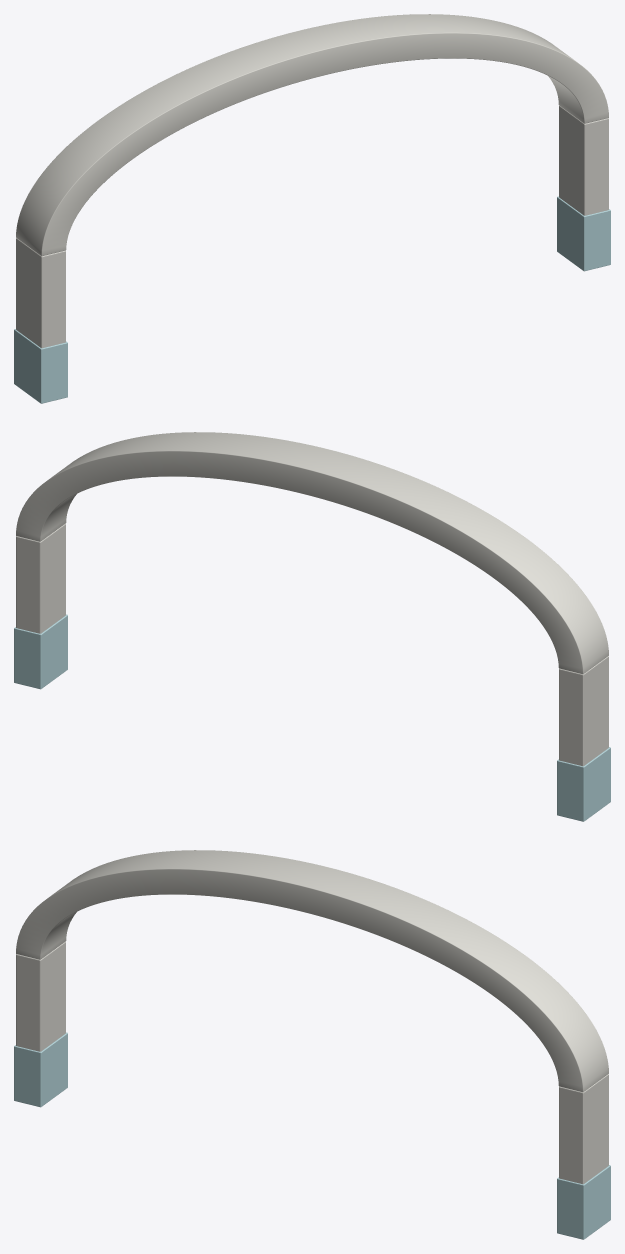
Rendered from formal_arch.glb.
The picture shows the model from 3 angles, top to bottom: view 1: azimuth 30°, elevation 25°; view 2: azimuth 150°, elevation 25°; view 3: azimuth 330°, elevation 25°; orthographic projection.
Visible parts, largest first — view 1: FormalSingleArch, FormalSingleArch_Pier-1, FormalSingleArch_Pier1, FormalSingleArch_CeramicFoot1, FormalSingleArch_CeramicFoot-1; view 2: FormalSingleArch, FormalSingleArch_Pier-1, FormalSingleArch_Pier1, FormalSingleArch_CeramicFoot1, FormalSingleArch_CeramicFoot-1; view 3: FormalSingleArch, FormalSingleArch_Pier1, FormalSingleArch_Pier-1, FormalSingleArch_CeramicFoot-1, FormalSingleArch_CeramicFoot1.
Boxes of the visible parts, x1,y1,x2,y2 form: FormalSingleArch: (16, 14, 608, 256); FormalSingleArch_Pier-1: (16, 238, 65, 348); FormalSingleArch_Pier1: (559, 105, 608, 215); FormalSingleArch_CeramicFoot1: (557, 196, 610, 271); FormalSingleArch_CeramicFoot-1: (14, 329, 67, 403); FormalSingleArch: (16, 432, 608, 674); FormalSingleArch_Pier-1: (559, 656, 608, 766); FormalSingleArch_Pier1: (16, 523, 65, 633); FormalSingleArch_CeramicFoot1: (14, 614, 67, 689); FormalSingleArch_CeramicFoot-1: (557, 747, 610, 821); FormalSingleArch: (16, 850, 608, 1092); FormalSingleArch_Pier1: (559, 1074, 608, 1184); FormalSingleArch_Pier-1: (16, 941, 65, 1051); FormalSingleArch_CeramicFoot-1: (14, 1032, 67, 1107); FormalSingleArch_CeramicFoot1: (557, 1165, 610, 1239).
Size of what is drawn, in the model's own units: 8.26 by 3.94 by 0.685.
